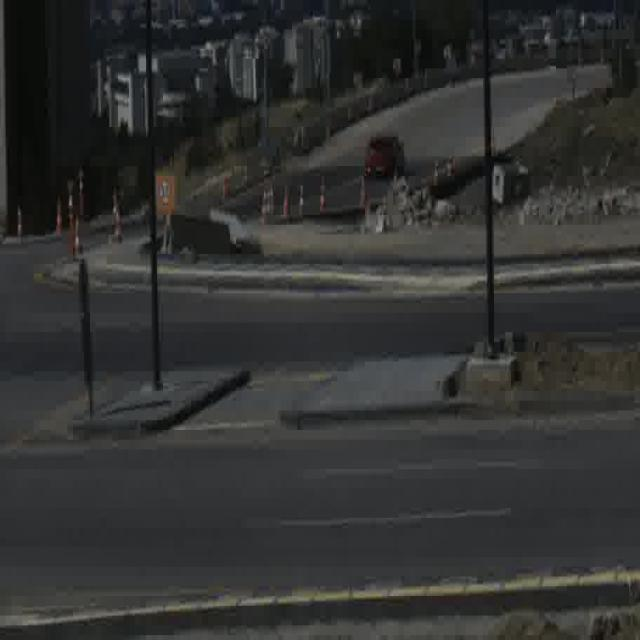Car: (364, 134, 406, 179)
